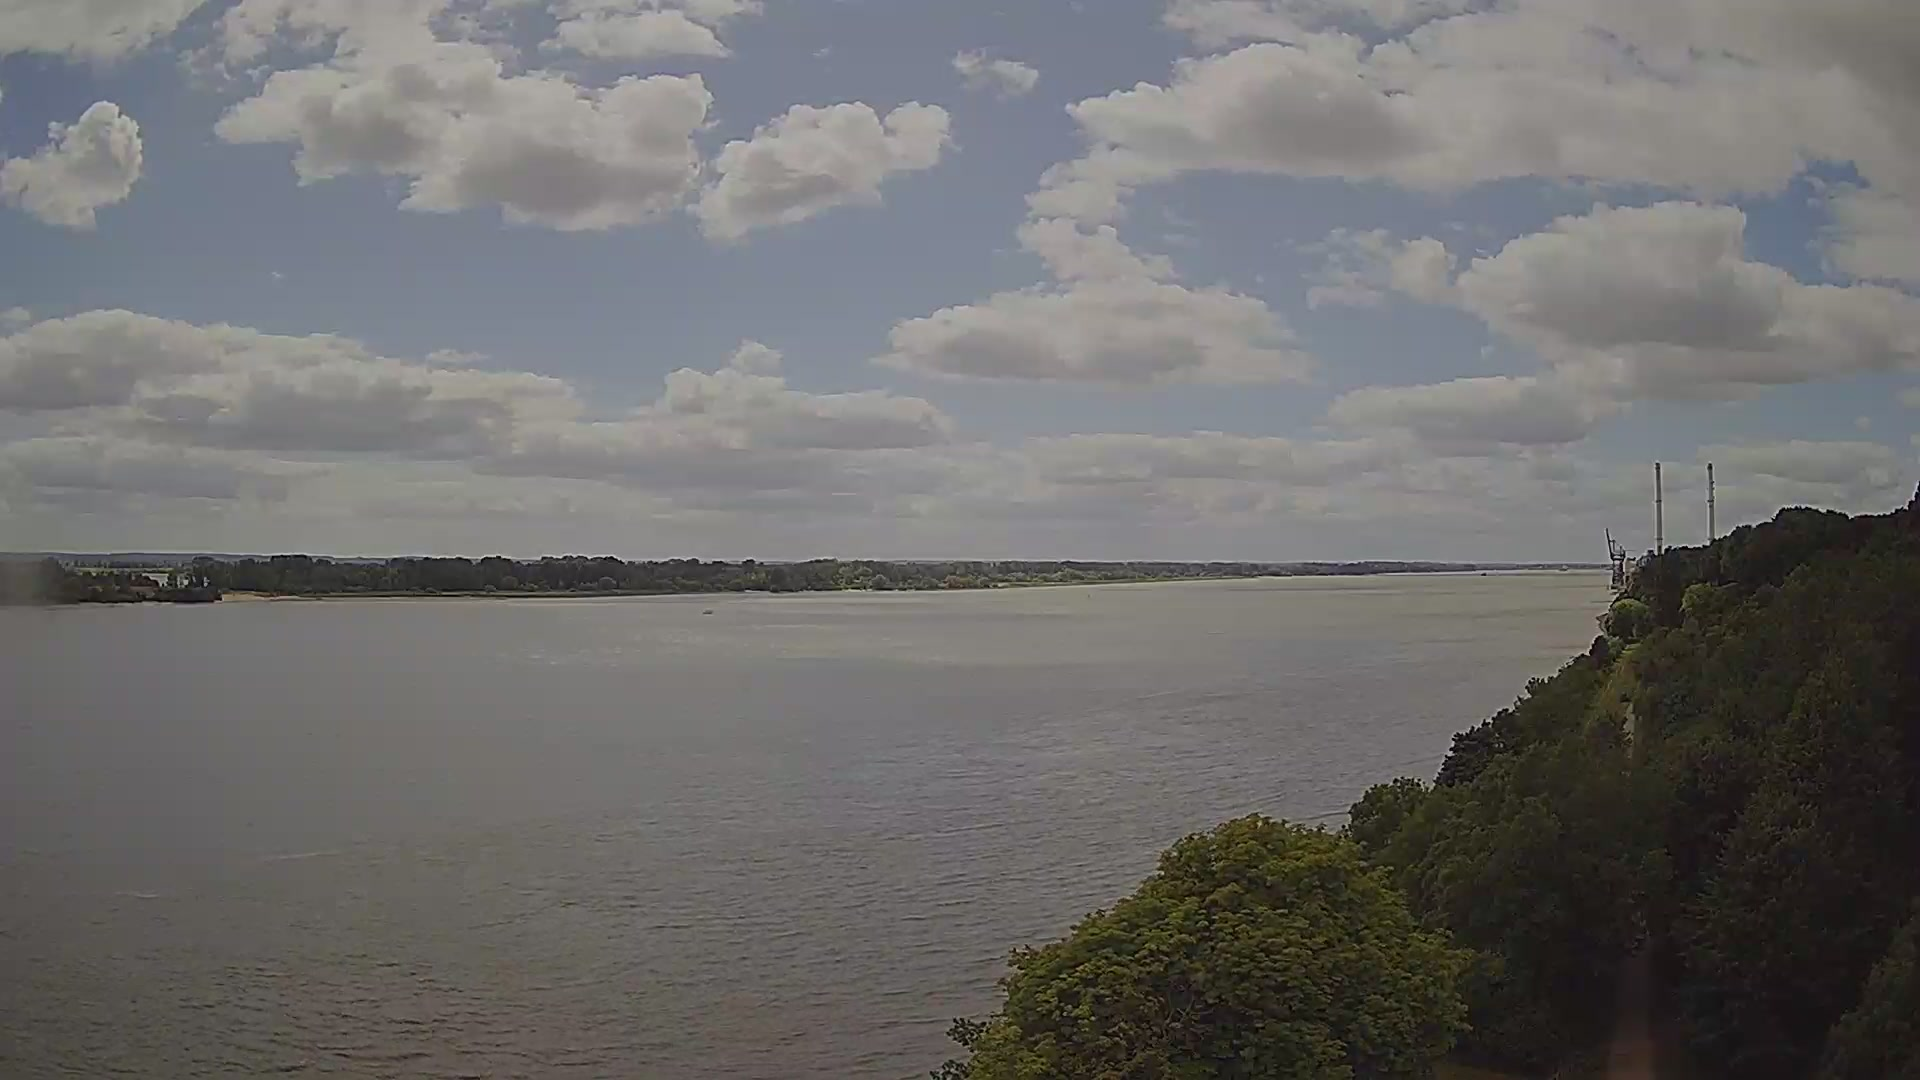sea: (1557, 563, 1569, 571), (702, 608, 713, 615), (1480, 572, 1487, 578)
